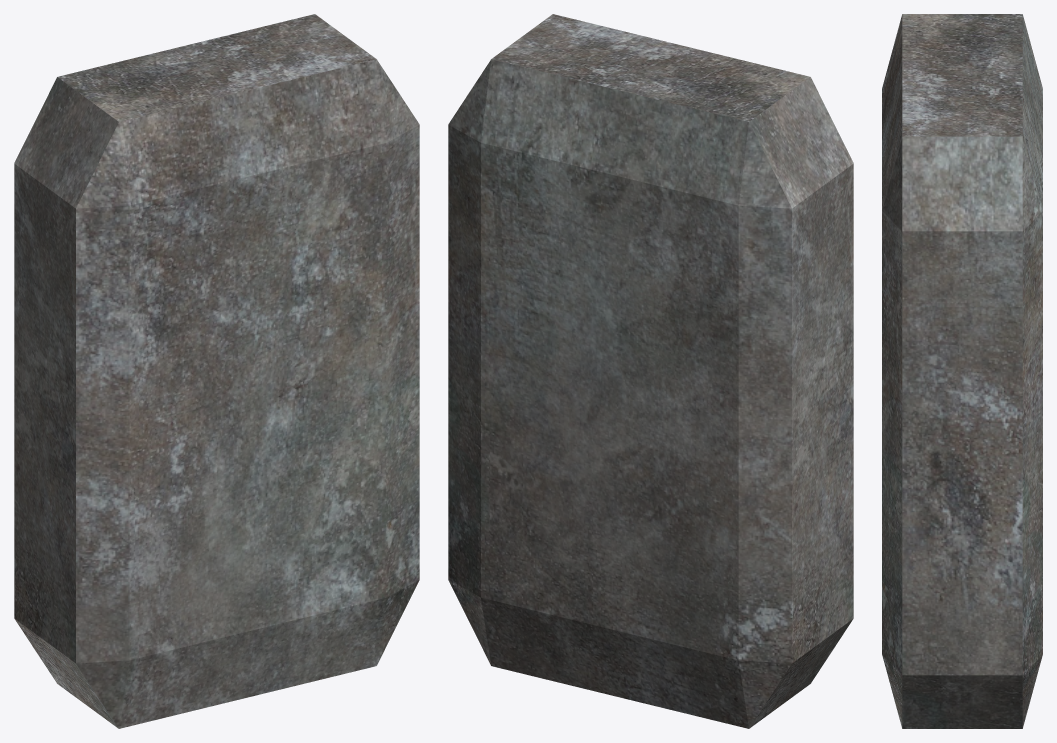
The model's file is stele.fbx.
3 renders of one model, left to right at view 1: azimuth 30°, elevation 25°; view 2: azimuth 150°, elevation 25°; view 3: azimuth 270°, elevation 25°, orthographic. The views are drawn at different scales.
Parts seen in each view (by area): view 1: Cube.001; view 2: Cube.001; view 3: Cube.001.
Boxes of the visible parts, left/top/right/bottom form: Cube.001: left=14, top=14, right=419, bottom=728; Cube.001: left=448, top=14, right=853, bottom=728; Cube.001: left=882, top=14, right=1042, bottom=728.
Size of the model in its own units: 84.35 by 142 by 34.97.
Materials: 1 (1 with a texture image).
